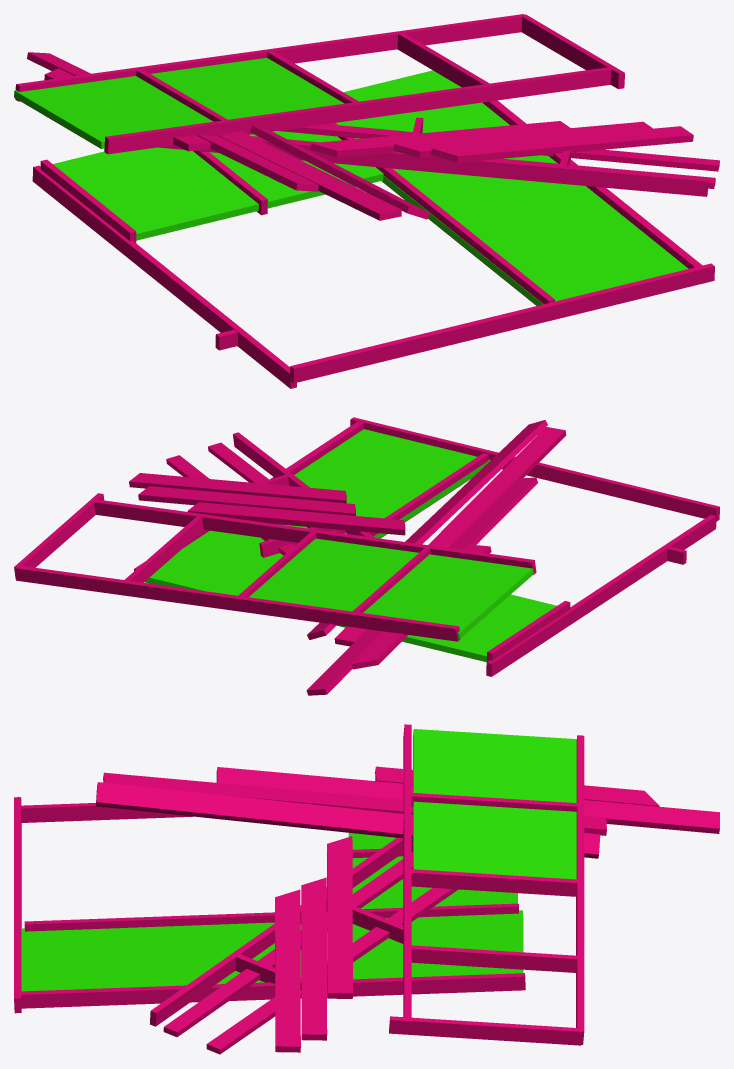
The model's file is House_Wood_Debris_Grp_01.fbx.
3 views of the same model, one above another, from view 1: azimuth 30°, elevation 25°; view 2: azimuth 150°, elevation 25°; view 3: azimuth 270°, elevation 25° (orthographic). The views are drawn at different scales.
Parts seen in each view (by area): view 1: House_Wood_Debris_Grp_01; view 2: House_Wood_Debris_Grp_01; view 3: House_Wood_Debris_Grp_01.
Boxes of the visible parts, x1,y1,x2,y2 form: House_Wood_Debris_Grp_01: (14, 14, 719, 388); House_Wood_Debris_Grp_01: (14, 417, 719, 695); House_Wood_Debris_Grp_01: (14, 724, 719, 1054).
Bounding box in the file's own units: 370 × 74.12 × 419.
